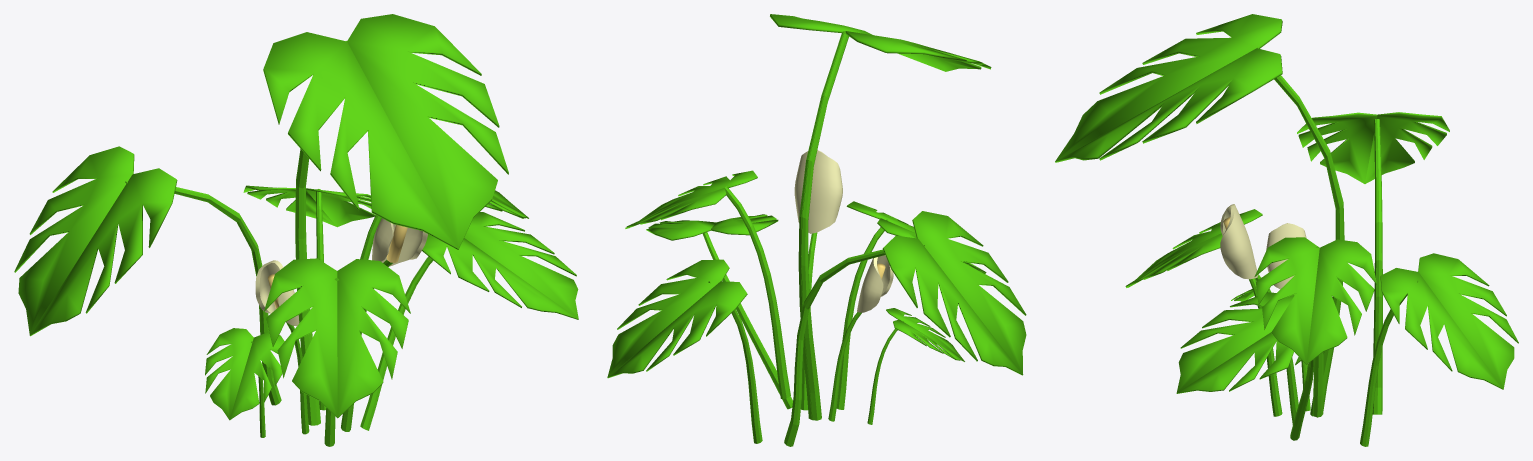
Rendered from Monstera_gra.fbx.
3 renders of one model, left to right at view 1: azimuth 30°, elevation 25°; view 2: azimuth 150°, elevation 25°; view 3: azimuth 270°, elevation 25°, orthographic. The views are drawn at different scales.
Visible parts, largest first — view 1: Plane.048, Plane.049, Plane.050; view 2: Plane.048, Plane.049, Plane.050; view 3: Plane.048, Plane.049, Plane.050.
Part boxes in pixels (bbox=[...]): Plane.048: bbox=[14, 14, 578, 446]; Plane.049: bbox=[372, 218, 427, 266]; Plane.050: bbox=[255, 260, 299, 326]; Plane.048: bbox=[607, 14, 1026, 446]; Plane.049: bbox=[794, 150, 842, 233]; Plane.050: bbox=[857, 255, 893, 312]; Plane.048: bbox=[1055, 14, 1518, 446]; Plane.049: bbox=[1220, 204, 1258, 279]; Plane.050: bbox=[1266, 223, 1306, 289].
Bounding box in the file's own units: 636 × 553 × 600.
